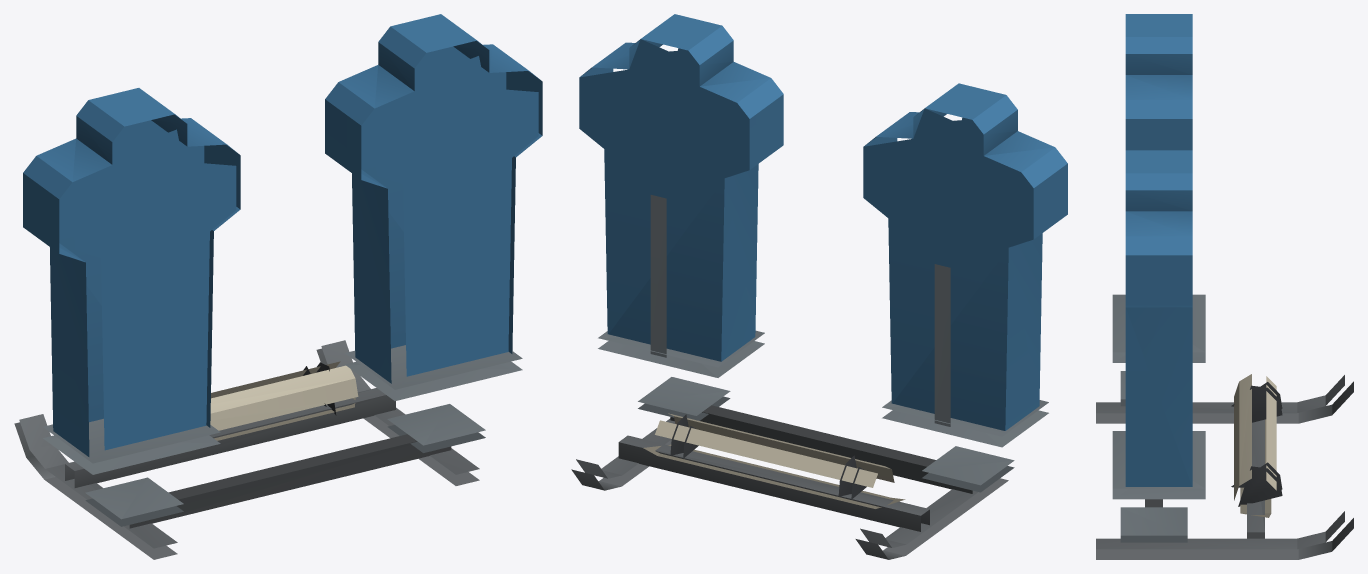
File: sled.lod.glb
3 renders of one model, left to right at view 1: azimuth 30°, elevation 25°; view 2: azimuth 150°, elevation 25°; view 3: azimuth 270°, elevation 25°, orthographic. The views are drawn at different scales.
Visible parts, largest first — view 1: sled; view 2: sled; view 3: sled.
Part boxes in pixels (<box>): sled: <box>14,14,542,559</box>; sled: <box>571,14,1067,559</box>; sled: <box>1096,14,1353,559</box>.
Size of the model in its own units: 2.6 by 2.18 by 1.3.
